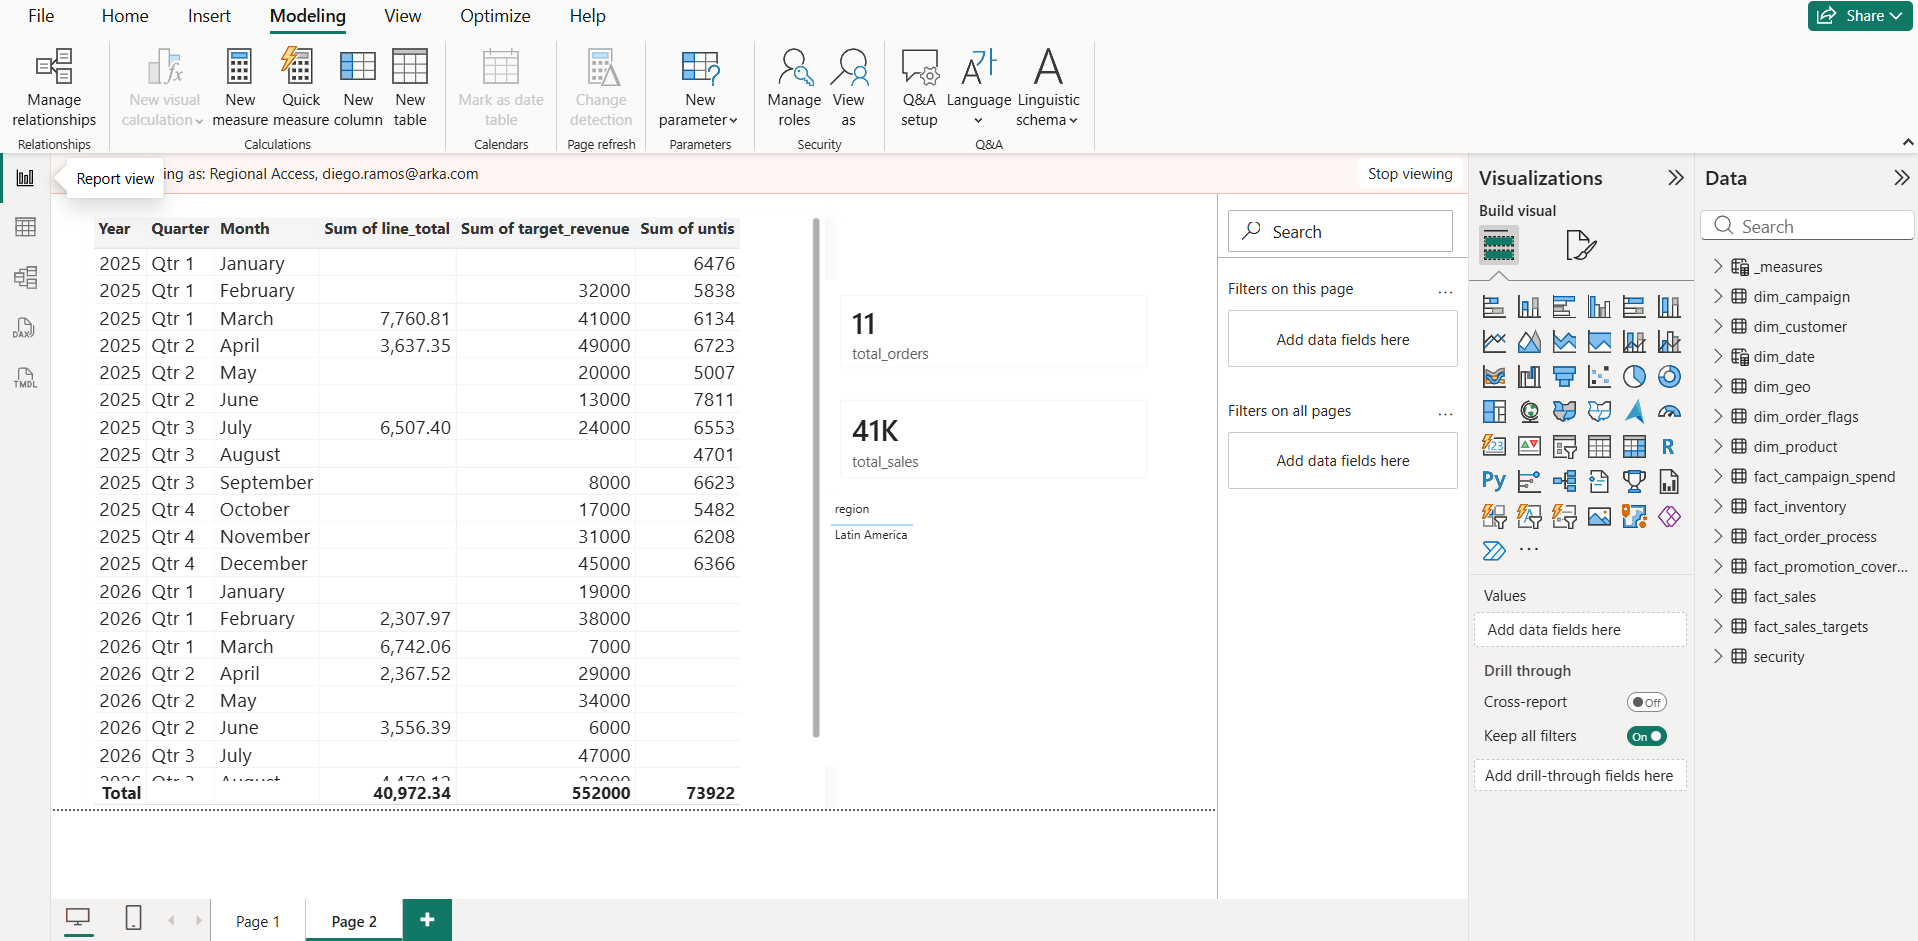

This screenshot's page, from the dashboard's own definition file:
{"tool":"powerbi","page":{"name":"Page 2","canvas":[1280,720],"ordinal":1},"visuals":[{"type":"tableEx","fields":{"Values":["dim_date.Date.Variation.Date Hierarchy.Year","dim_date.Date.Variation.Date Hierarchy.Quarter","dim_date.Date.Variation.Date Hierarchy.Month","Sum(fact_sales.line_total)","Sum(fact_sales_targets.target_revenue)","Sum(fact_inventory.untis)"]},"box":[31.6,19.2,808.2,654.5],"z":0},{"type":"cardVisual","fields":{"Data":["_measures.total_sales"]},"box":[850,254.3,371.4,120],"z":1000},{"type":"cardVisual","fields":{"Data":["_measures.total_orders"]},"box":[849.9,138,371.6,115.9],"z":2000},{"type":"tableEx","fields":{"Values":["dim_customer.region"]},"box":[850,374.3,371.4,299.5],"z":3000}]}

Visuals, with their boxes on the page's 1280x720 design canvas (x1, y1, x2, y2). These are canvas units, not pixel positions in the 1918x941 screenshot, which may show the page scaled, cropped or inside an application window:
tableEx - dim_date.Date.Variation.Date Hierarchy.Year x dim_date.Date.Variation.Date Hierarchy.Quarter: 32:19:840:674
cardVisual - _measures.total_sales: 850:254:1221:374
cardVisual - _measures.total_orders: 850:138:1222:254
tableEx - dim_customer.region: 850:374:1221:674
